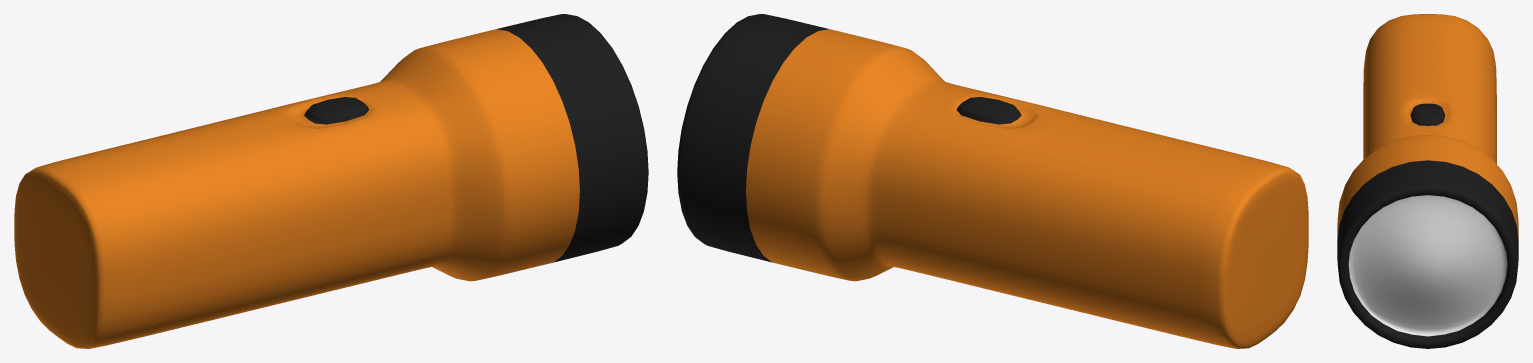
File: light bulb.glb
The picture shows the model from 3 angles, left to right: view 1: azimuth 30°, elevation 25°; view 2: azimuth 150°, elevation 25°; view 3: azimuth 270°, elevation 25°; orthographic projection. The views are drawn at different scales.
Parts seen in each view (by area): view 1: Cube; view 2: Cube; view 3: Cube.
Boxes of the visible parts, x1=… form: Cube: x1=14, y1=14, x2=648, y2=348; Cube: x1=677, y1=14, x2=1308, y2=348; Cube: x1=1337, y1=14, x2=1518, y2=348.
Bounding box in the file's own units: 876 × 338 × 338.
